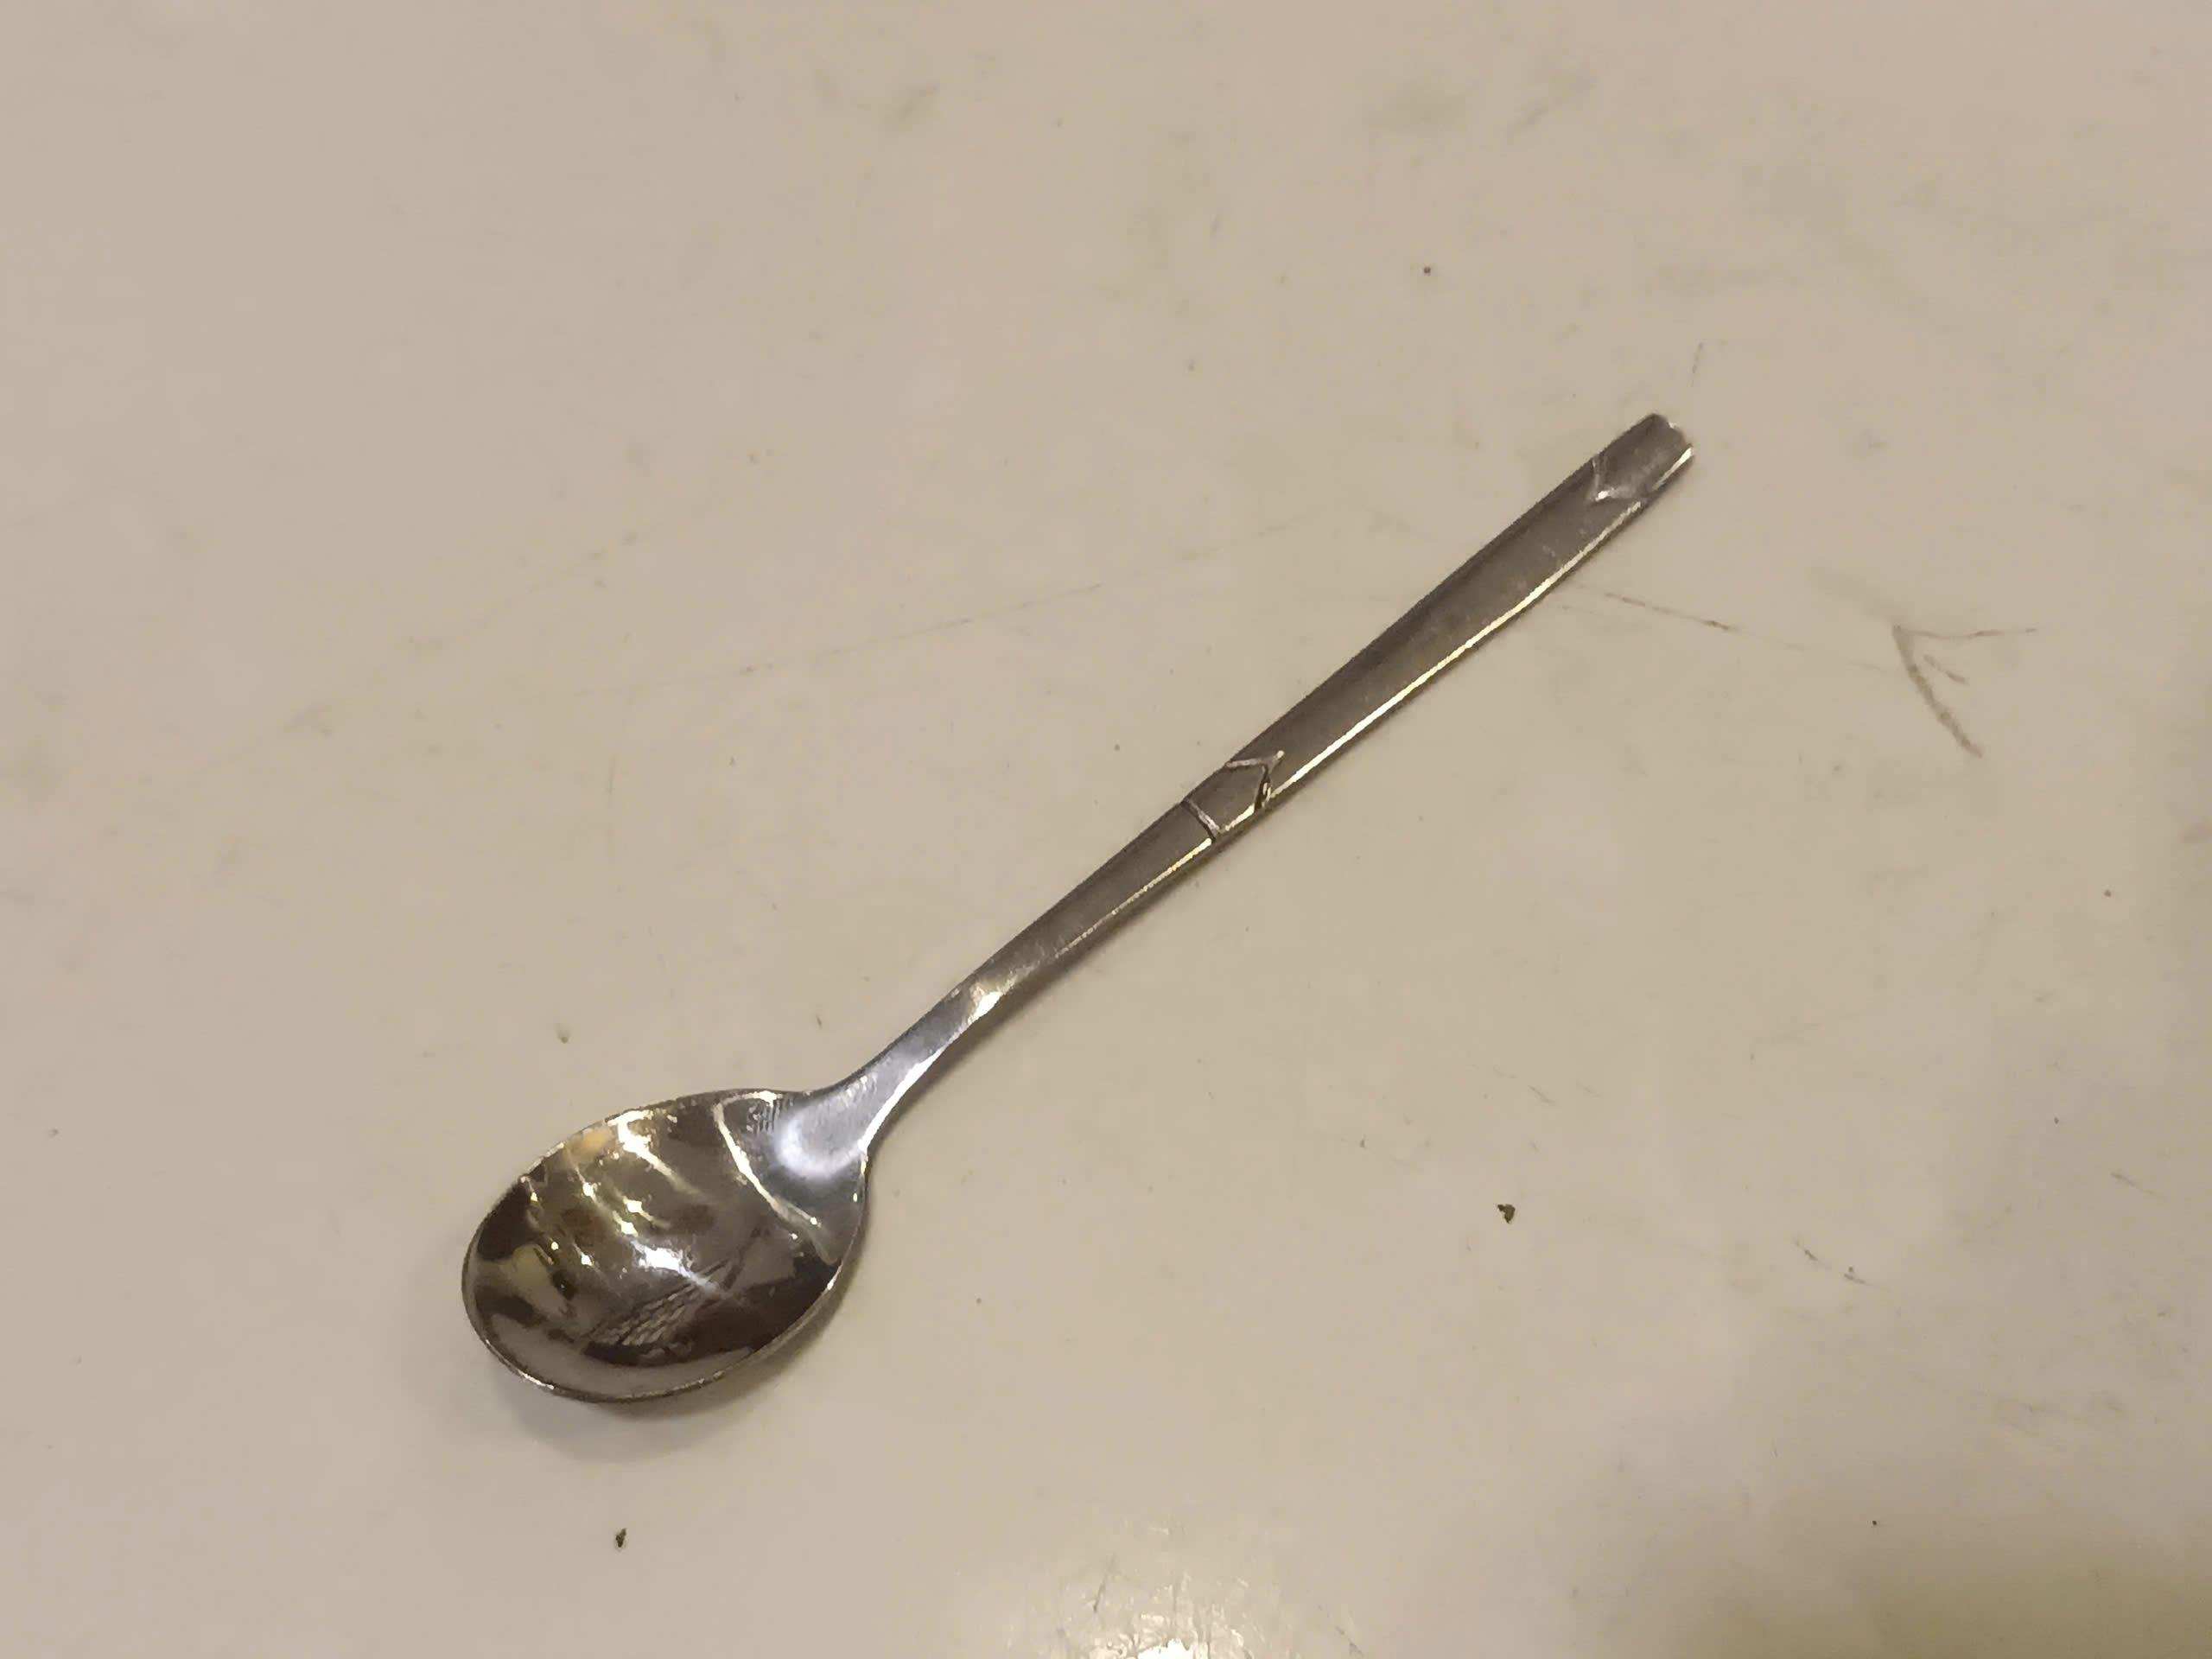Vo co: (458, 418, 1696, 1400)
